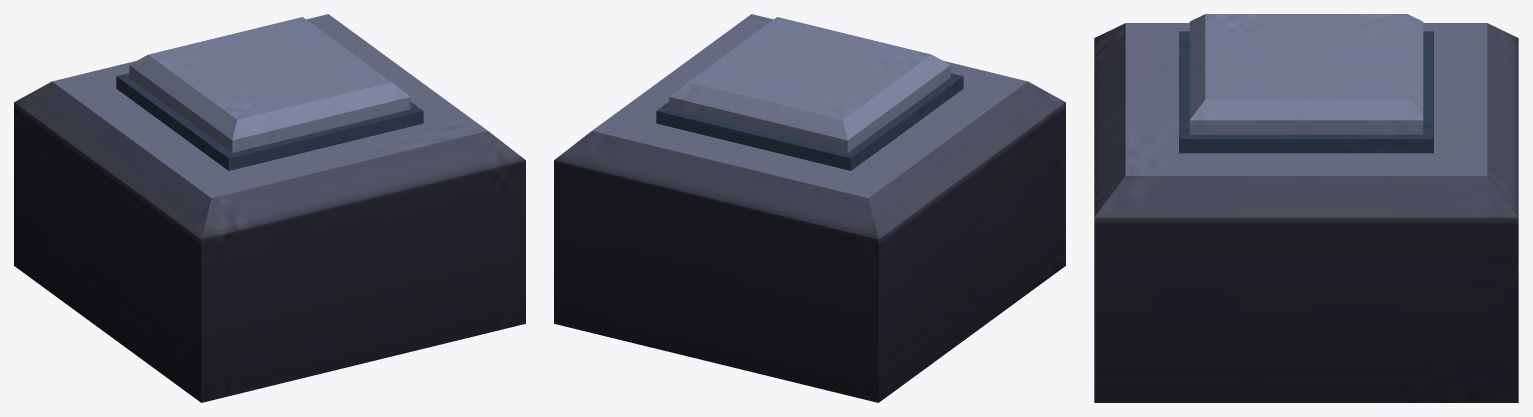
The model's file is assembling-machine-2.glb.
3 views of the same model, side by side, from view 1: azimuth 30°, elevation 25°; view 2: azimuth 150°, elevation 25°; view 3: azimuth 270°, elevation 25° (orthographic). The views are drawn at different scales.
Visible parts, largest first — view 1: assembling-machine-2; view 2: assembling-machine-2; view 3: assembling-machine-2.
Part boxes in pixels (x1=…): assembling-machine-2: x1=14, y1=14, x2=525, y2=402; assembling-machine-2: x1=554, y1=14, x2=1065, y2=402; assembling-machine-2: x1=1094, y1=14, x2=1518, y2=402.
Size of the model in its own units: 0.27 by 0.18 by 0.27.
Materials: 1 (1 with a texture image).
